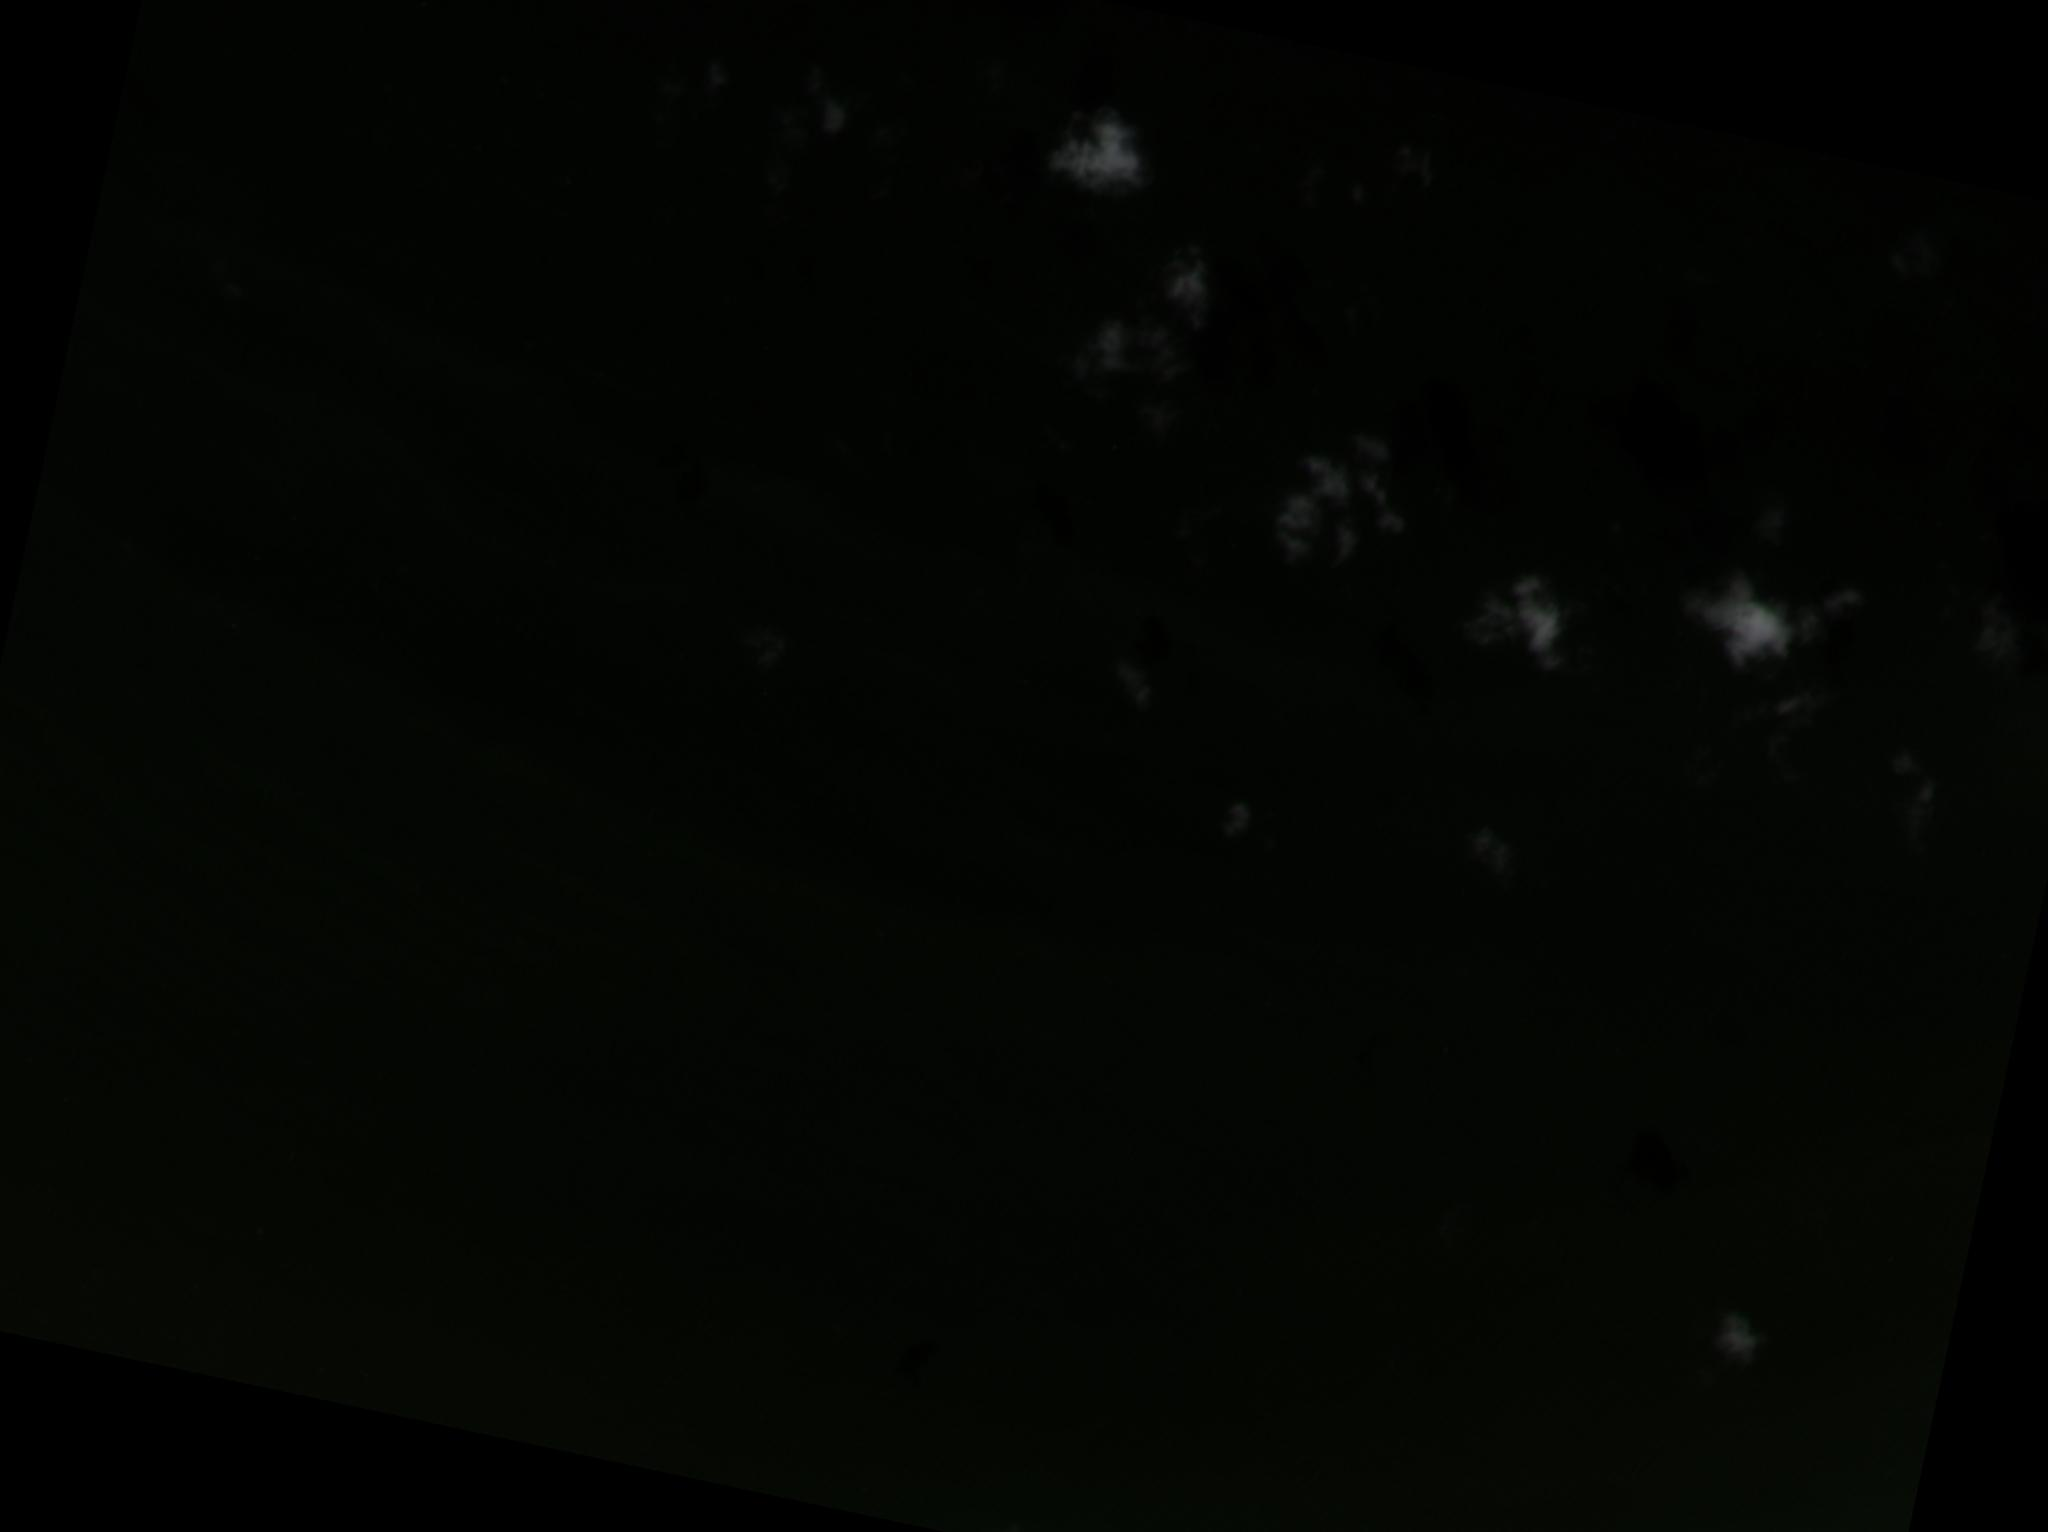ship: (1667, 555, 1858, 673), (1459, 557, 1593, 686), (1038, 89, 1174, 208), (1951, 599, 2042, 692), (1694, 1305, 1771, 1394), (1253, 489, 1435, 525), (1454, 819, 1536, 885), (1065, 346, 1221, 377), (727, 623, 790, 681), (1213, 800, 1255, 846)
